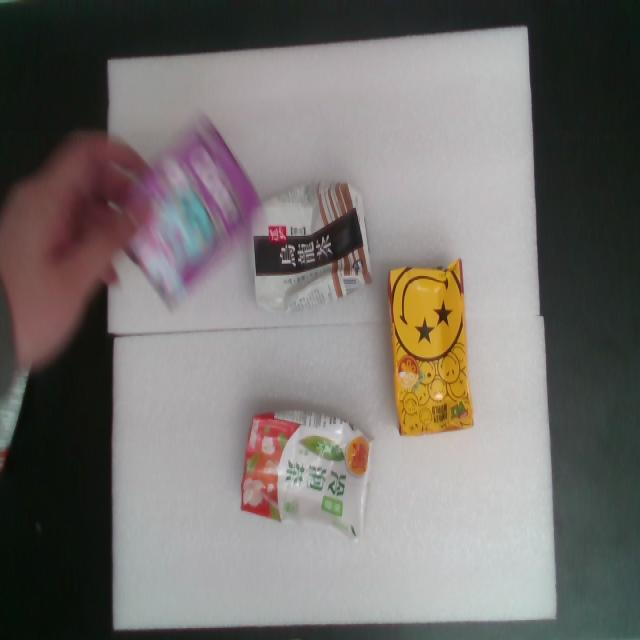juicebox: (216, 161, 406, 331), (227, 387, 385, 554), (376, 243, 487, 446)
